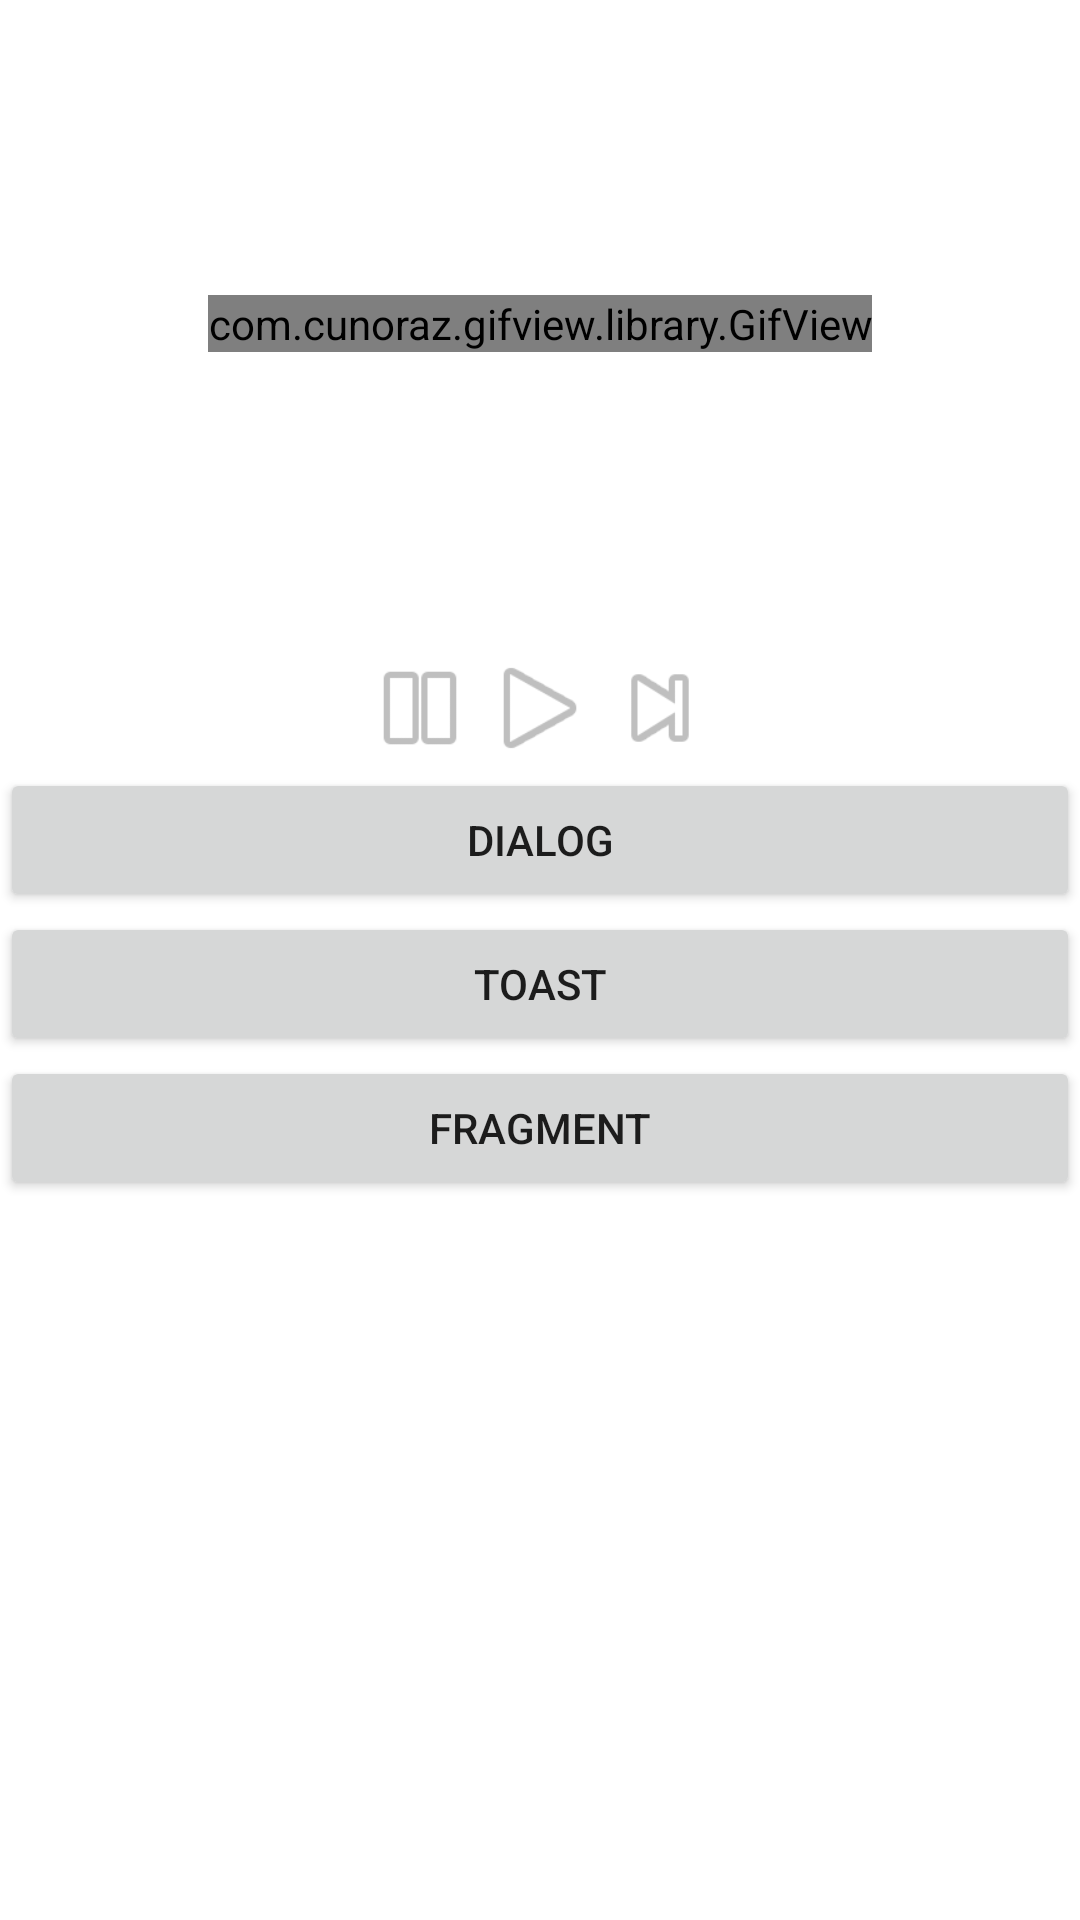

Icon bounding boxes for this 1080*1920 phone screenshot, format (x1, y1, x2, y2):
next: (631, 674, 689, 742)
pause: (384, 672, 456, 744)
play: (504, 668, 576, 748)
